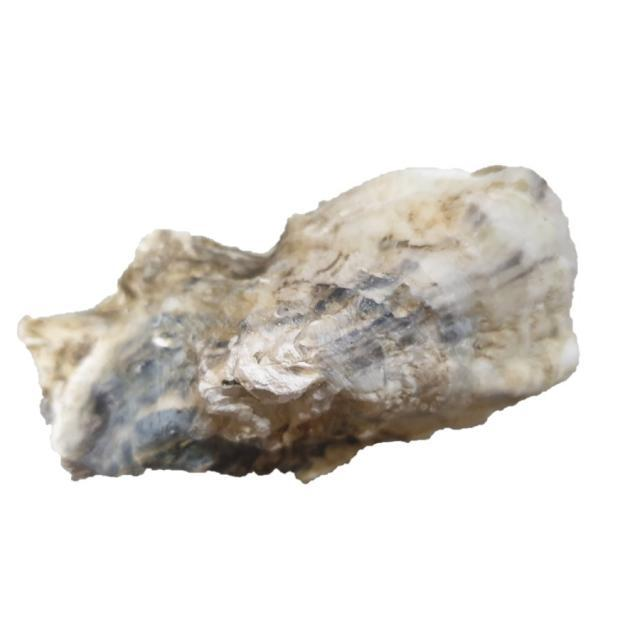Oyster- Indeterminate: (16, 152, 588, 486)
